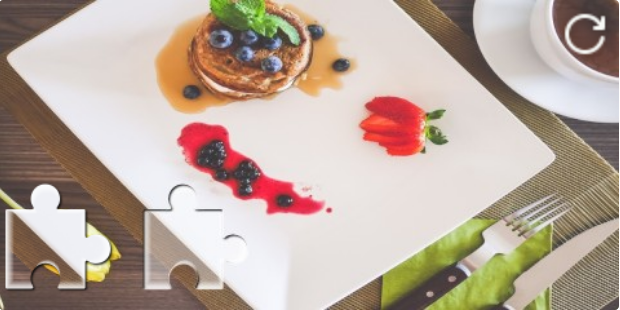target: (143, 184, 247, 291)
